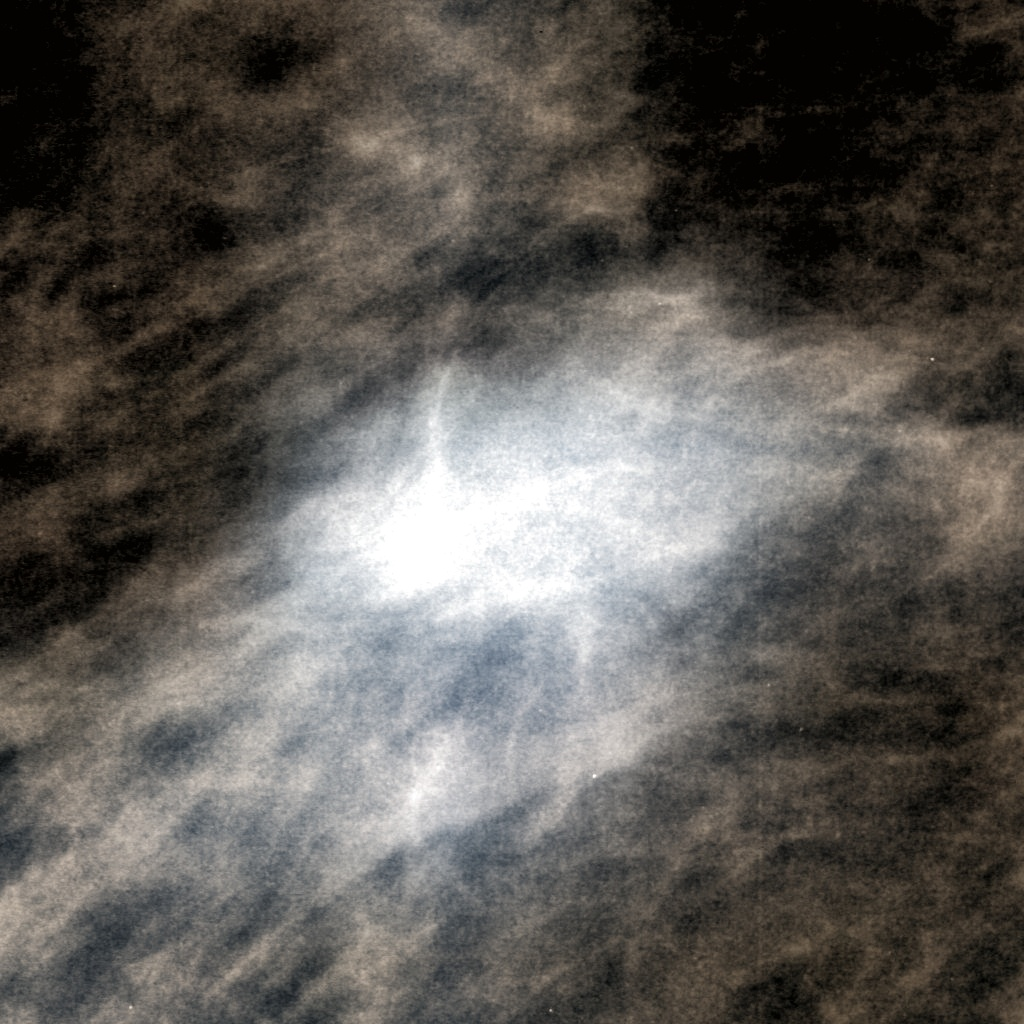tumor: (225, 322, 799, 702)
